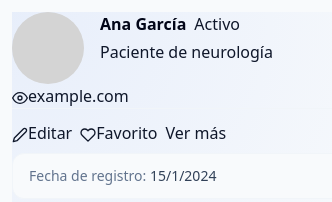
it: PatientCard › expands on toggle click, showing "Ver menos" and creation date
Step 1. Click the button "Ver más" → click(196, 133), box [166,121,226,145]
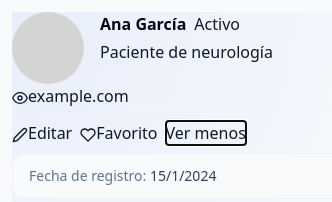
Expected: the text "Fecha de registro: 15/1/2024" is shown, [29,166,216,185]
Expected: the button named "ver más" reads "Ver menos", [166,121,246,145]
